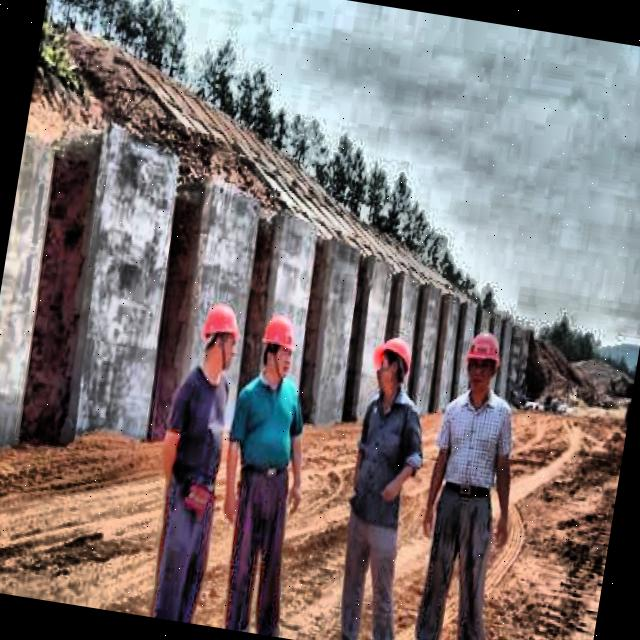helmet: (195, 298, 246, 380), (364, 328, 418, 405), (458, 326, 508, 400), (254, 311, 302, 388)
